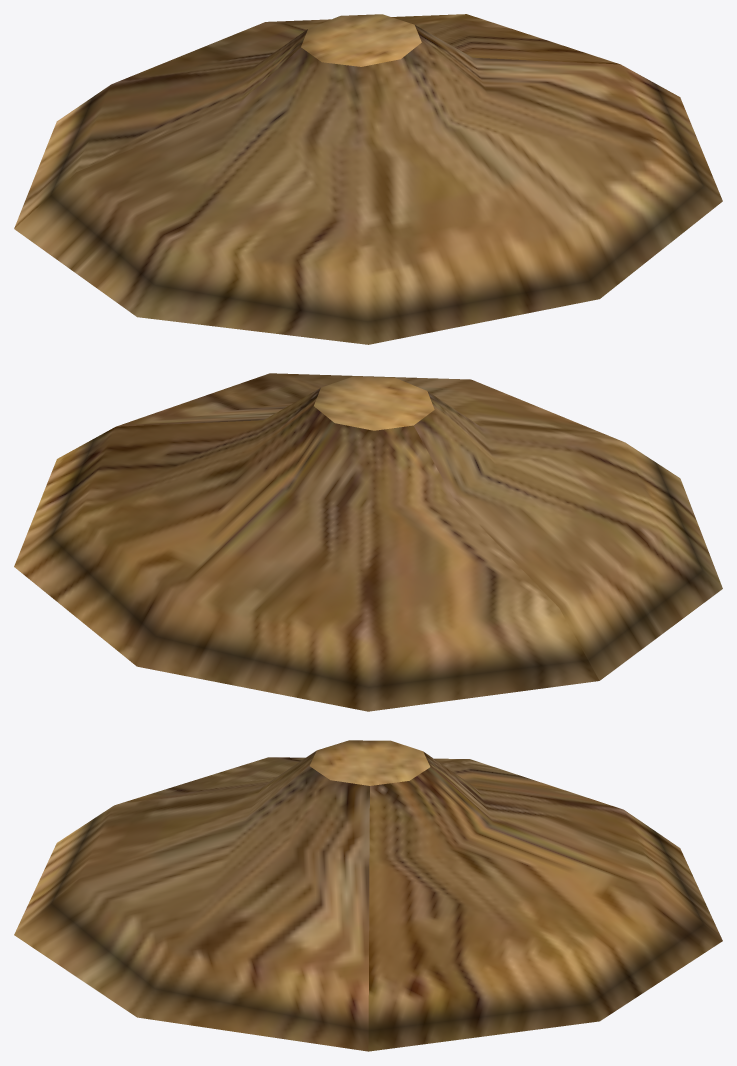
Rendered from Project.obj.
3 views of the same model, one above another, from view 1: azimuth 30°, elevation 25°; view 2: azimuth 150°, elevation 25°; view 3: azimuth 270°, elevation 25° (orthographic).
Visible parts, largest first — view 1: Main, Top; view 2: Main, Top; view 3: Main, Top.
Part boxes in pixels (x1,y1,x2,y2): Main: [14, 14, 722, 344]; Top: [301, 14, 421, 66]; Main: [14, 373, 722, 711]; Top: [314, 376, 434, 430]; Main: [14, 751, 722, 1051]; Top: [309, 740, 430, 785].
Size of the model in its own units: 0.591 by 0.155 by 0.6007.
Materials: 1 (1 with a texture image).
